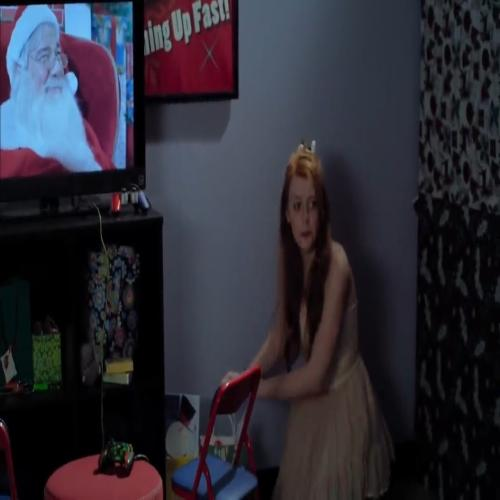Santa: (0, 0, 107, 170)
